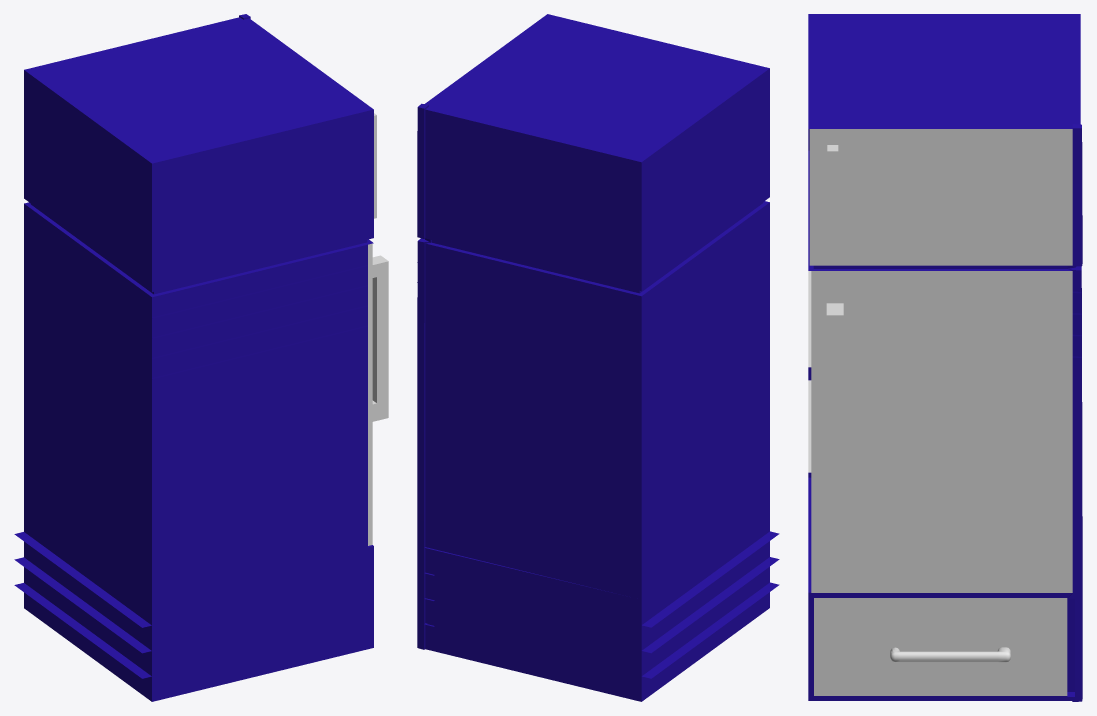
Rendered from Refrigerador.fbx.
The picture shows the model from 3 angles, left to right: view 1: azimuth 30°, elevation 25°; view 2: azimuth 150°, elevation 25°; view 3: azimuth 270°, elevation 25°; orthographic projection. The views are drawn at different scales.
Visible parts, largest first — view 1: Refri, Puerta; view 2: Refri; view 3: Puerta, Refri, Mango_conge, Mango_conge2.
Part boxes in pixels (x1,y1,x2,y2): Refri: (14,14,373,701); Puerta: (368,243,388,545); Refri: (417,14,779,701); Puerta: (811,271,1072,592); Refri: (808,14,1082,701); Mango_conge: (809,129,1072,265); Mango_conge2: (814,598,1067,695).
Size of the model in its own units: 230 by 465 by 202.
